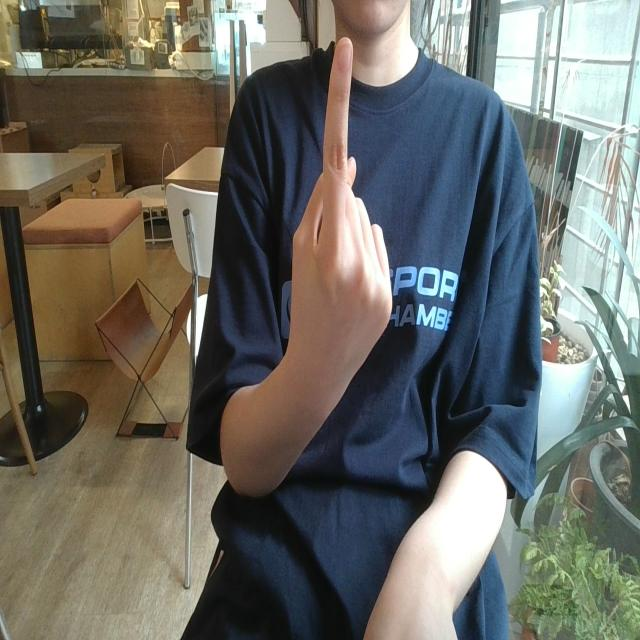o: (264, 20, 439, 419)
